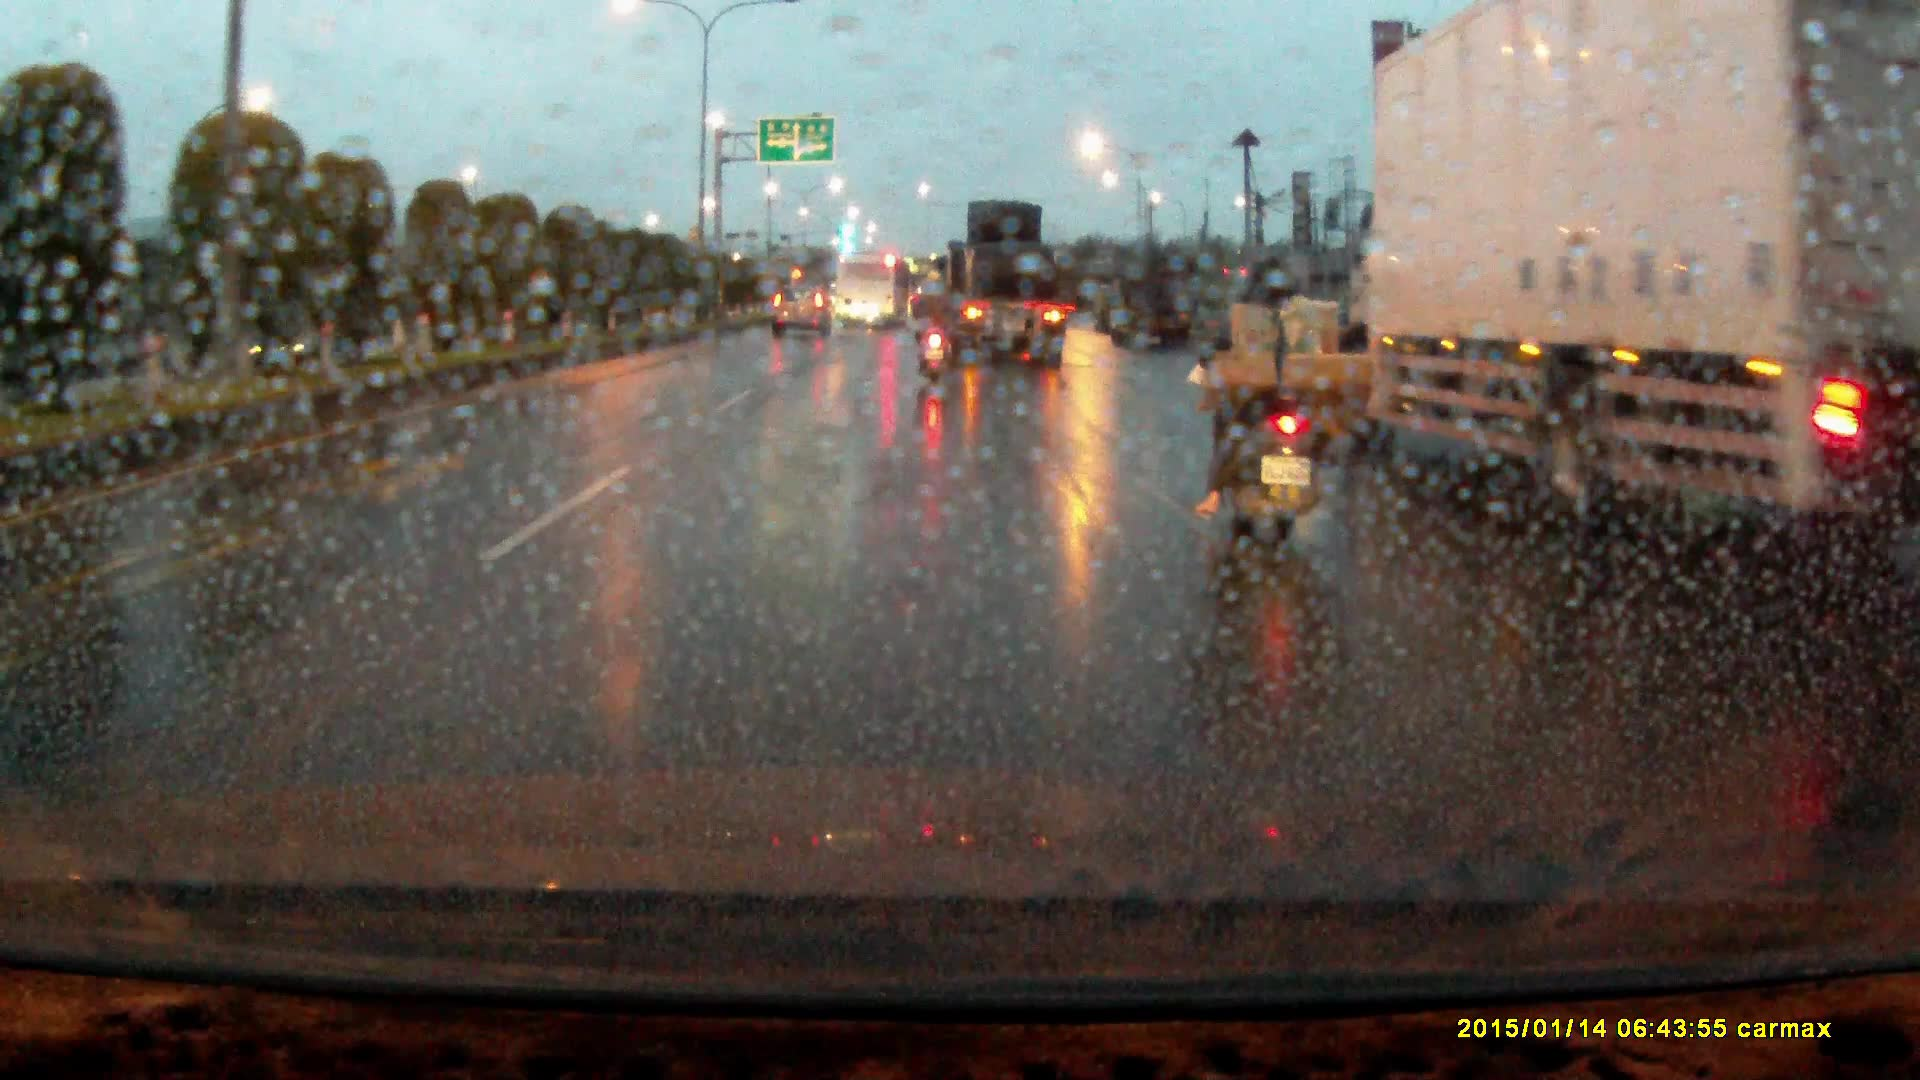rider: (1188, 253, 1382, 578), (912, 286, 955, 392)
vehicle: (1348, 1, 1920, 546), (926, 199, 1066, 368), (1109, 262, 1191, 353), (835, 253, 910, 331), (772, 286, 831, 341), (1092, 281, 1128, 334)
